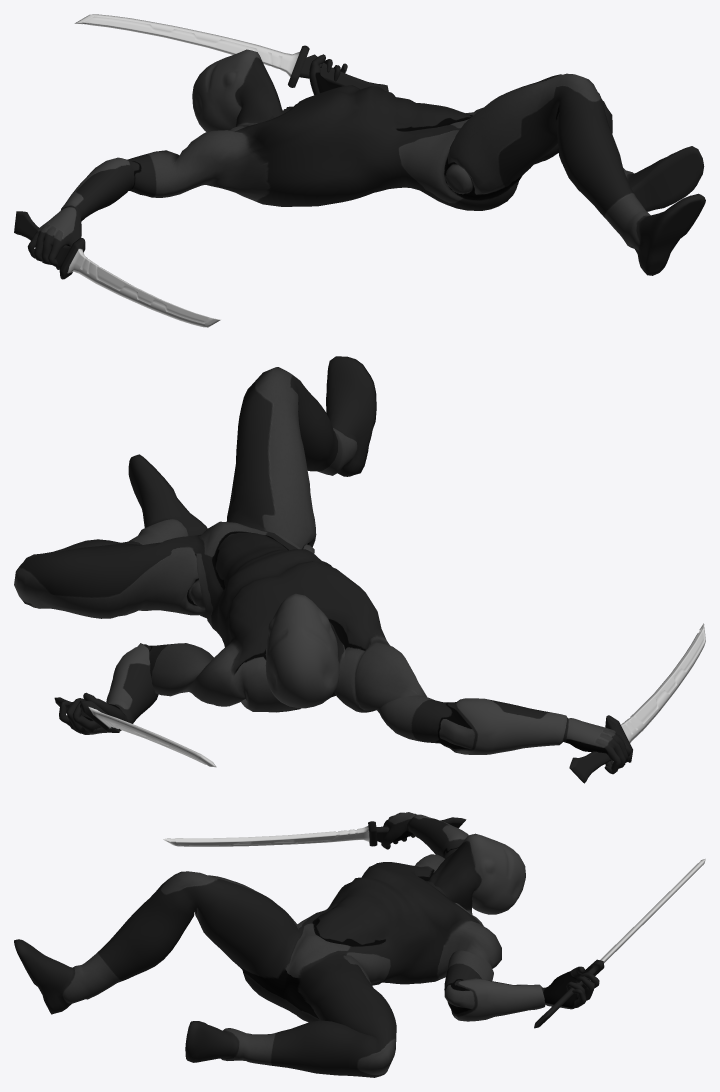
The picture shows the model from 3 angles, top to bottom: view 1: azimuth 30°, elevation 25°; view 2: azimuth 150°, elevation 25°; view 3: azimuth 270°, elevation 25°; orthographic projection. The views are drawn at different scales.
Parts seen in each view (by area): view 1: Cyborg_Ninja_Killer, Sword_l, Sword_l001; view 2: Cyborg_Ninja_Killer, Sword_l001, Sword_l; view 3: Cyborg_Ninja_Killer, Sword_l001, Sword_l.
Boxes of the visible parts, bbox=[...] form: Cyborg_Ninja_Killer: bbox=[27, 49, 705, 275]; Sword_l: bbox=[74, 14, 388, 91]; Sword_l001: bbox=[14, 211, 220, 327]; Cyborg_Ninja_Killer: bbox=[14, 356, 631, 774]; Sword_l001: bbox=[569, 623, 705, 783]; Sword_l: bbox=[54, 697, 216, 767]; Cyborg_Ninja_Killer: bbox=[14, 812, 599, 1077]; Sword_l001: bbox=[163, 817, 466, 846]; Sword_l: bbox=[534, 858, 705, 1028].
Size of the model in its own units: 175 by 52.8 by 201.
Materials: 2 (2 with a texture image).
